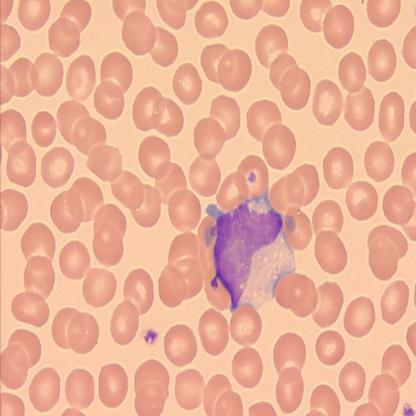Atypical lymphocyte: (204, 185, 300, 316)
